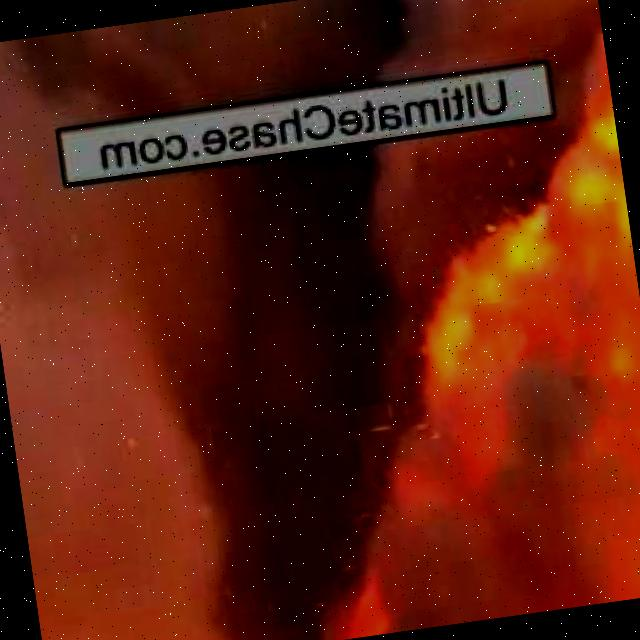fire: (485, 14, 640, 608), (406, 224, 532, 383)
